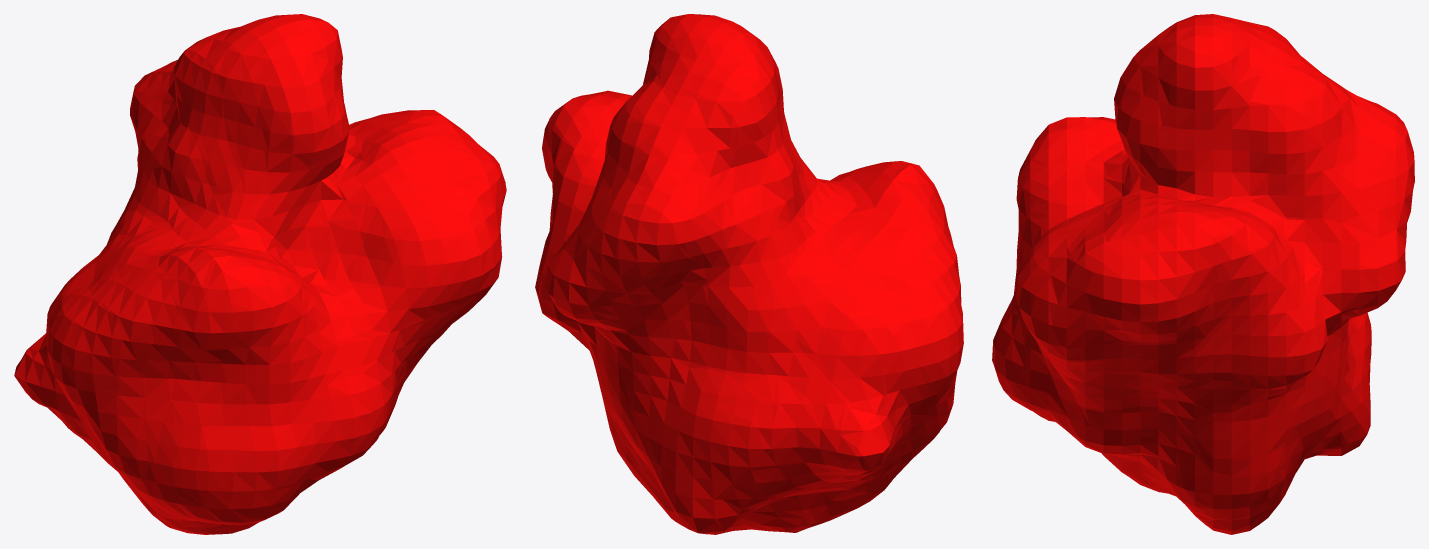
The model's file is ucpA_coarse.dae.
3 views of the same model, side by side, from view 1: azimuth 30°, elevation 25°; view 2: azimuth 150°, elevation 25°; view 3: azimuth 270°, elevation 25° (orthographic). The views are drawn at different scales.
Visible parts, largest first — view 1: ucpA; view 2: ucpA; view 3: ucpA.
Boxes of the visible parts, box(x1,y1,x2,y2) form: ucpA: box(14, 14, 506, 534); ucpA: box(535, 14, 963, 534); ucpA: box(992, 14, 1414, 534).
Bounding box in the file's own units: 54.09 × 59.76 × 44.71.
